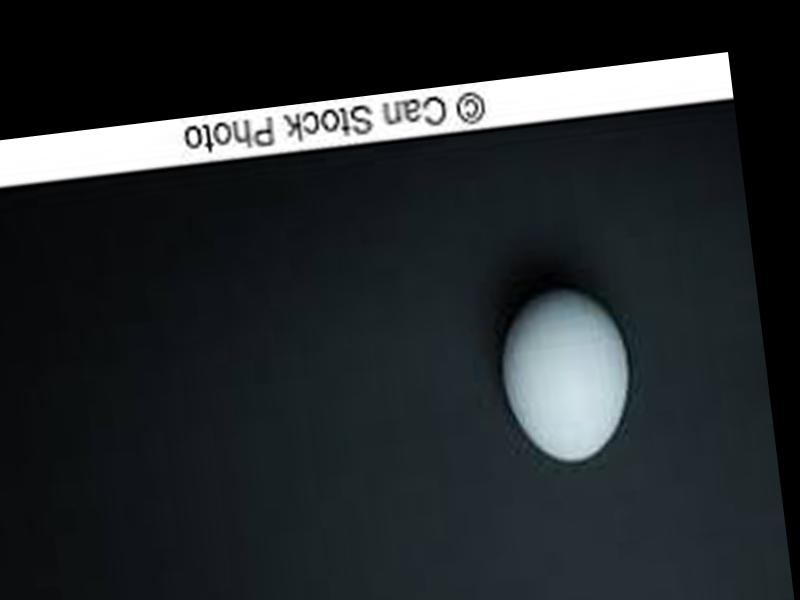Eggs: (494, 282, 641, 469)
